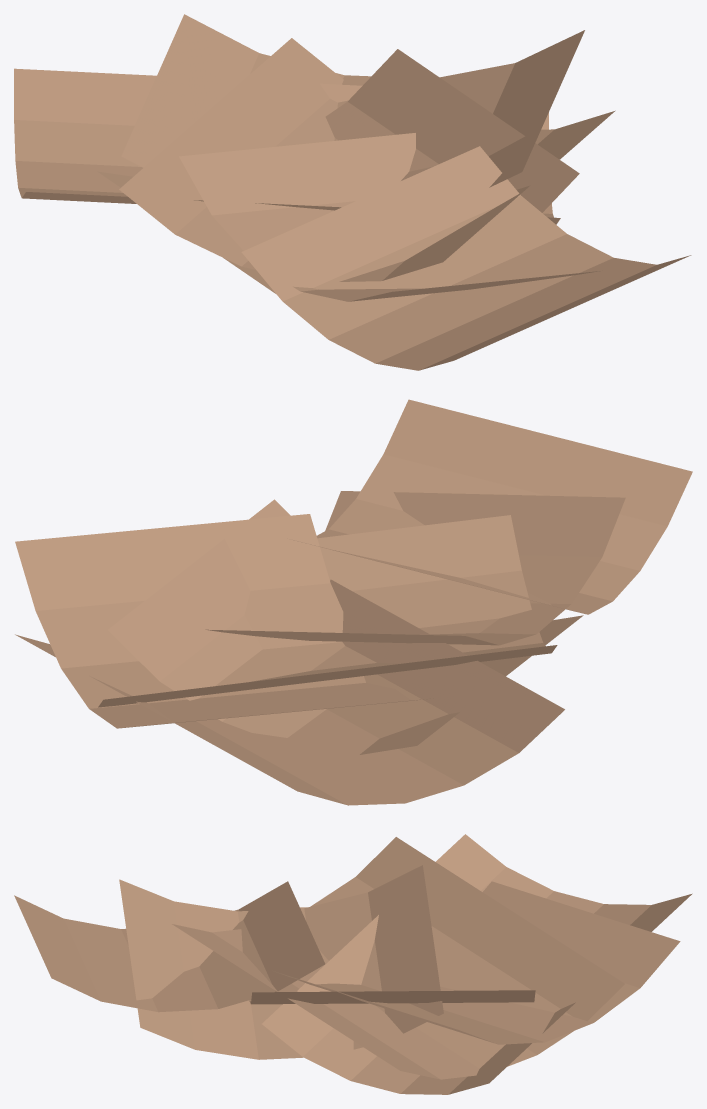
The model's file is temperate-forest-ecology-bark-slab-fallen-7ad1cf01__3832.glb.
The picture shows the model from 3 angles, top to bottom: view 1: azimuth 30°, elevation 25°; view 2: azimuth 150°, elevation 25°; view 3: azimuth 270°, elevation 25°; orthographic projection. The views are drawn at different scales.
Parts seen in each view (by area): view 1: bark-slab-fallen; view 2: bark-slab-fallen; view 3: bark-slab-fallen.
Part boxes in pixels (x1=…): bark-slab-fallen: x1=14, y1=14, x2=691, y2=370; bark-slab-fallen: x1=15, y1=399, x2=692, y2=805; bark-slab-fallen: x1=14, y1=834, x2=692, y2=1094.
Size of the model in its own units: 1.05 by 0.2056 by 1.37.
